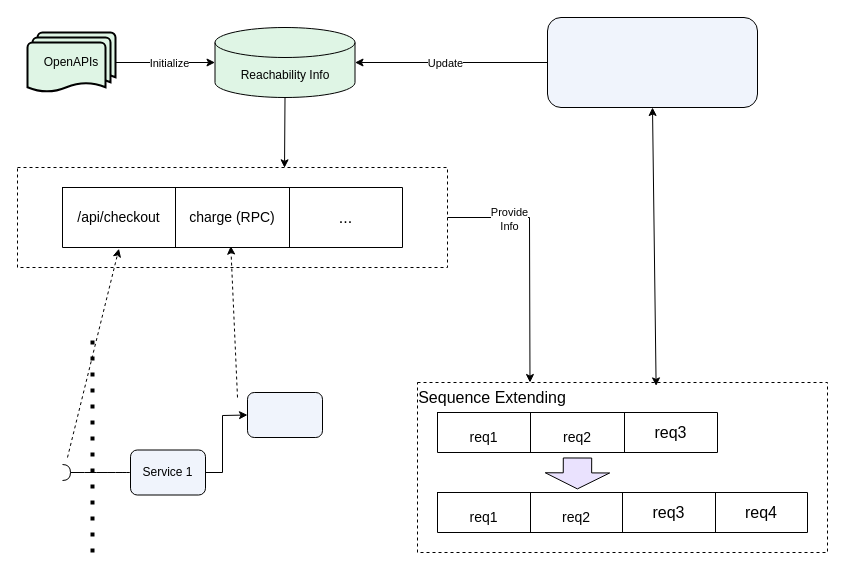
This 845x573 diagram has some shape labels left out. Here are the shapes that lost their labels. From the top down, the centre of each, then its label:
(652,62): Fuzzing Loop
(284,415): Service 2
